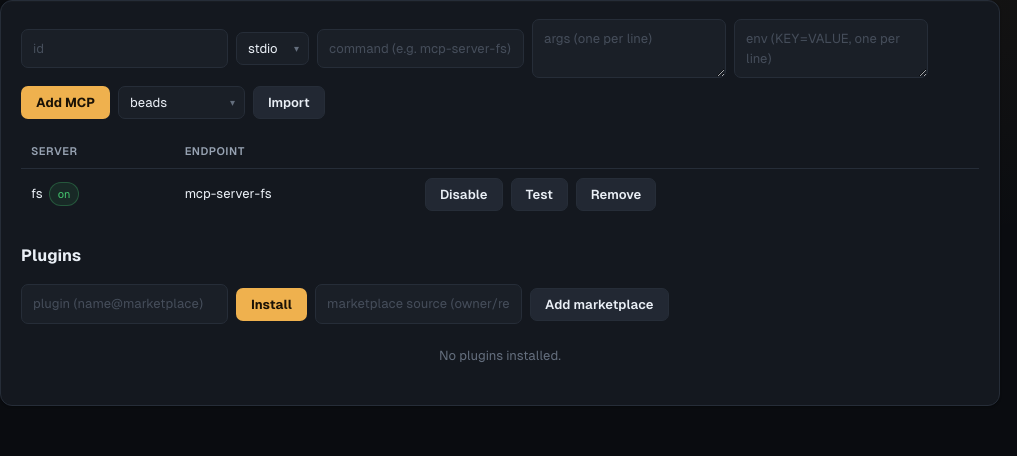
Scenario: Connectors status feedback › reports nothing-new when import created zero
Click the button "Import". click: (289, 102)
box: [253,86,325,119]
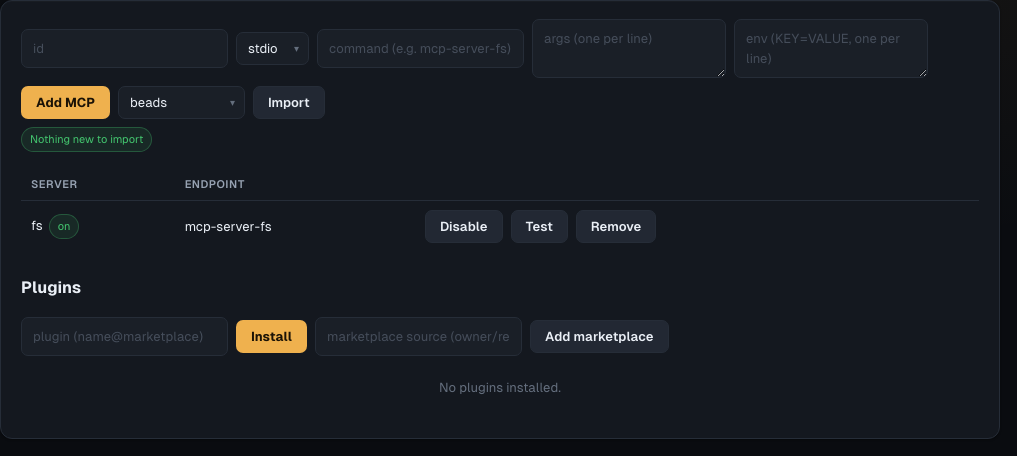
Check: the text "Nothing new to import" is shown, box [21,127,152,152]
